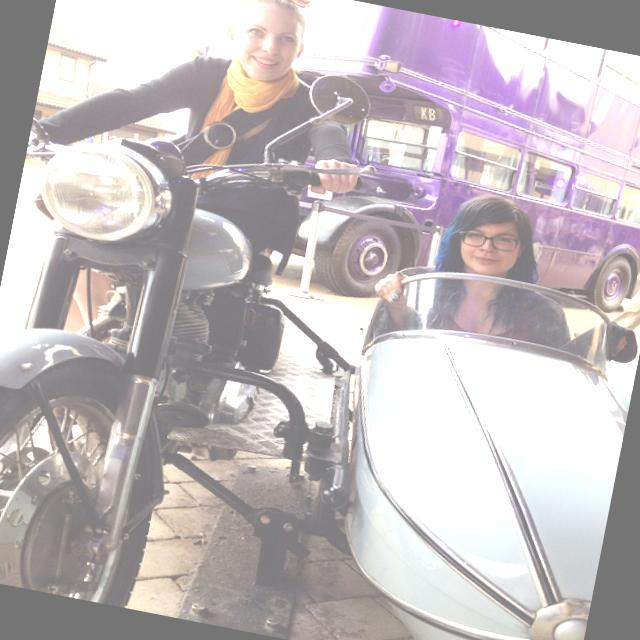Vehicle: (0, 14, 640, 640), (168, 0, 640, 343)
